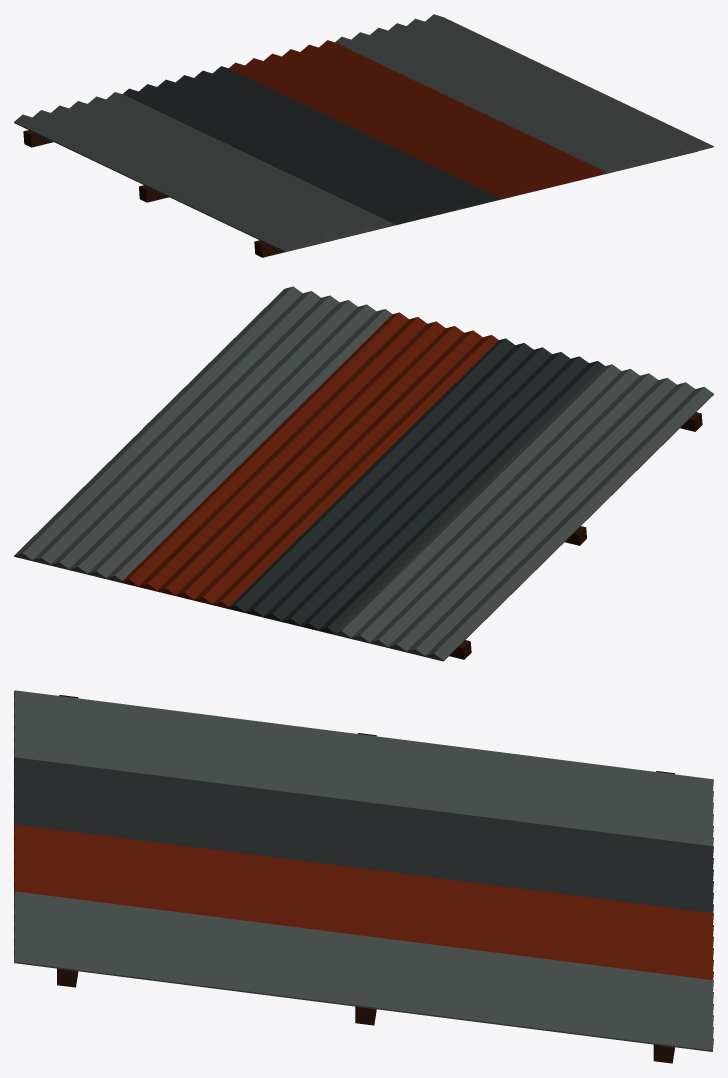
Rendered from SM_Bld_Roof_Corrugated_4x4.glb.
3 views of the same model, one above another, from view 1: azimuth 30°, elevation 25°; view 2: azimuth 150°, elevation 25°; view 3: azimuth 270°, elevation 25° (orthographic). The views are drawn at different scales.
Parts seen in each view (by area): view 1: SM_Bld_Roof_Corrugated_4x4; view 2: SM_Bld_Roof_Corrugated_4x4; view 3: SM_Bld_Roof_Corrugated_4x4.
Part boxes in pixels (<box>): SM_Bld_Roof_Corrugated_4x4: <box>14,14,713,257</box>; SM_Bld_Roof_Corrugated_4x4: <box>14,286,713,661</box>; SM_Bld_Roof_Corrugated_4x4: <box>14,690,713,1063</box>.
Size of the model in its own units: 4.1 by 0.7493 by 4.41.
Materials: 1 (1 with a texture image).
